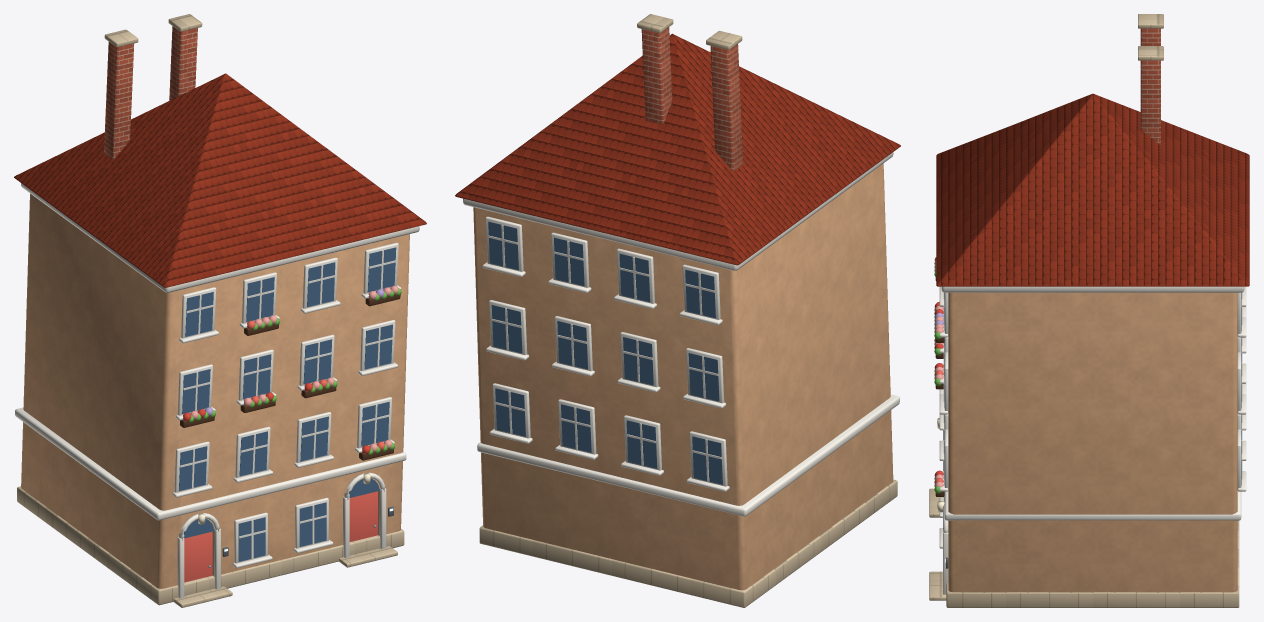
The model's file is house_e.gltf.
3 renders of one model, left to right at view 1: azimuth 30°, elevation 25°; view 2: azimuth 150°, elevation 25°; view 3: azimuth 270°, elevation 25°, orthographic. The views are drawn at different scales.
Parts seen in each view (by area): view 1: house_e_mesh, INT_door_house_e_0, INT_door_house_e_1; view 2: house_e_mesh; view 3: house_e_mesh.
Boxes of the visible parts, <box> form: house_e_mesh: <box>14,14,426,607</box>; INT_door_house_e_0: <box>184,531,212,582</box>; INT_door_house_e_1: <box>349,491,377,541</box>; house_e_mesh: <box>455,14,900,607</box>; house_e_mesh: <box>929,14,1249,607</box>.
Size of what is drawn, in the model's own units: 10.94 by 18.94 by 11.06.
Materials: 19 (5 with a texture image).
